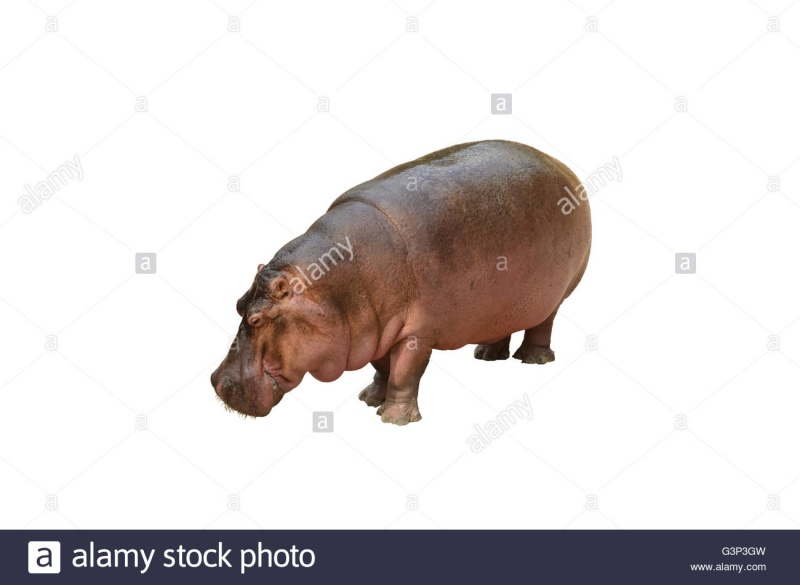hipopotamo: (214, 142, 607, 427)
